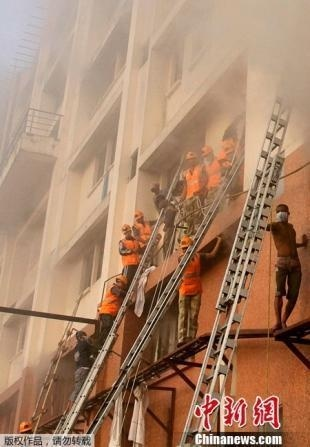fire: (182, 139, 231, 196)
